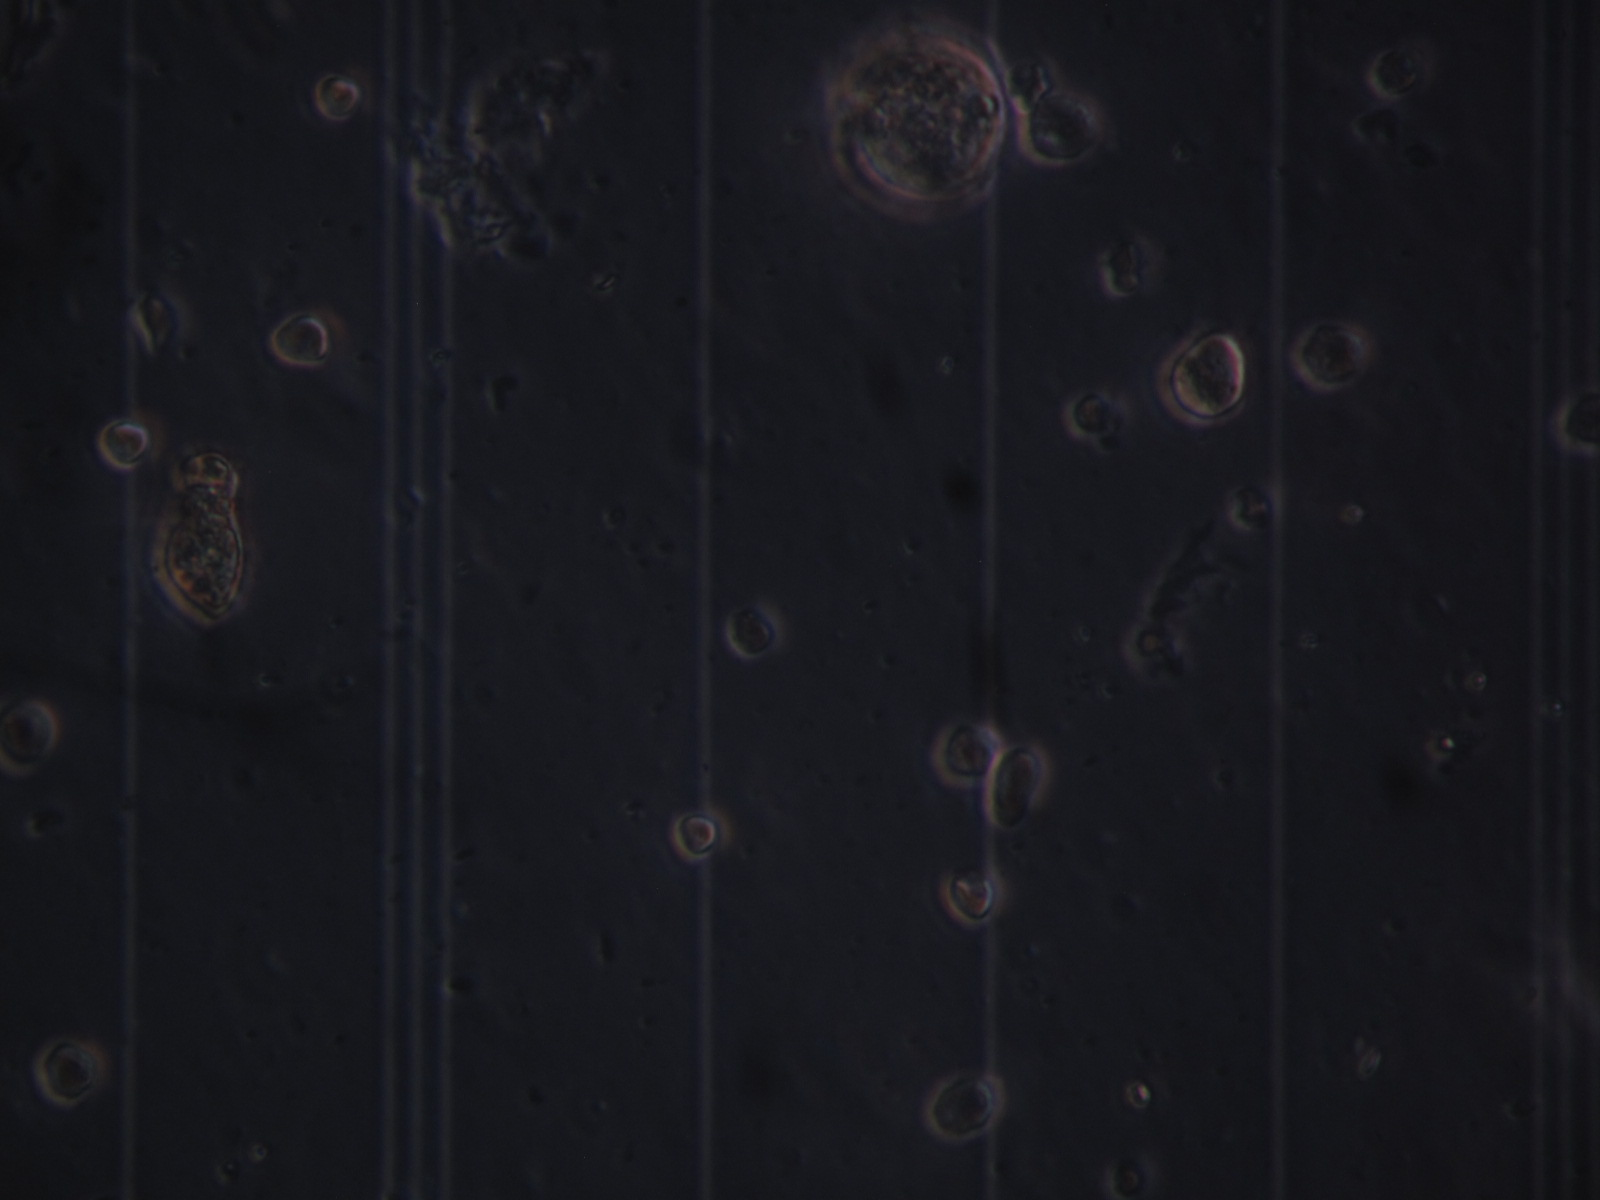hemo: (1157, 328, 1247, 427), (1018, 91, 1104, 166), (1293, 318, 1378, 393), (985, 745, 1053, 828), (929, 1071, 1009, 1139), (37, 1034, 105, 1105), (1, 696, 60, 778), (935, 718, 1002, 787), (937, 865, 1007, 928), (1099, 231, 1162, 297), (132, 287, 186, 357), (271, 313, 333, 368), (728, 601, 784, 661), (674, 805, 731, 861), (1369, 45, 1424, 103), (1231, 480, 1285, 534), (98, 418, 154, 471), (1553, 387, 1600, 449), (1003, 55, 1051, 112), (1062, 388, 1114, 437), (314, 71, 362, 122)
